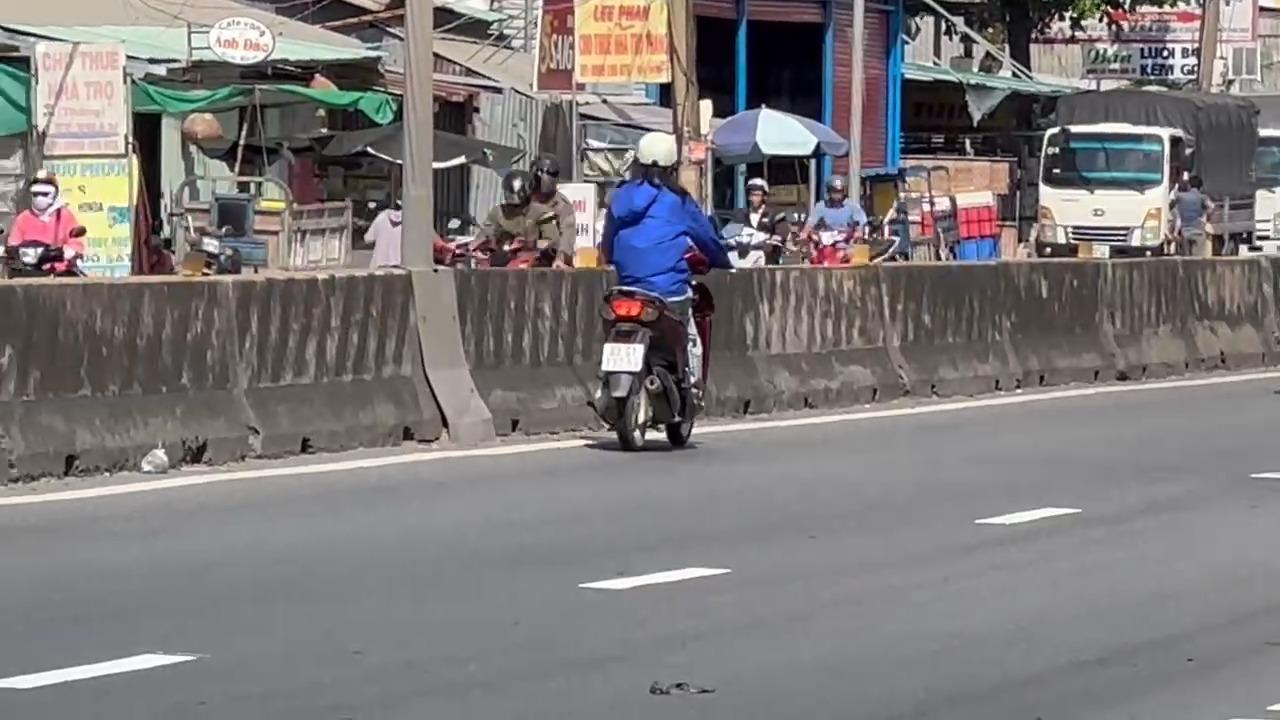bien_so: (599, 341, 645, 373)
